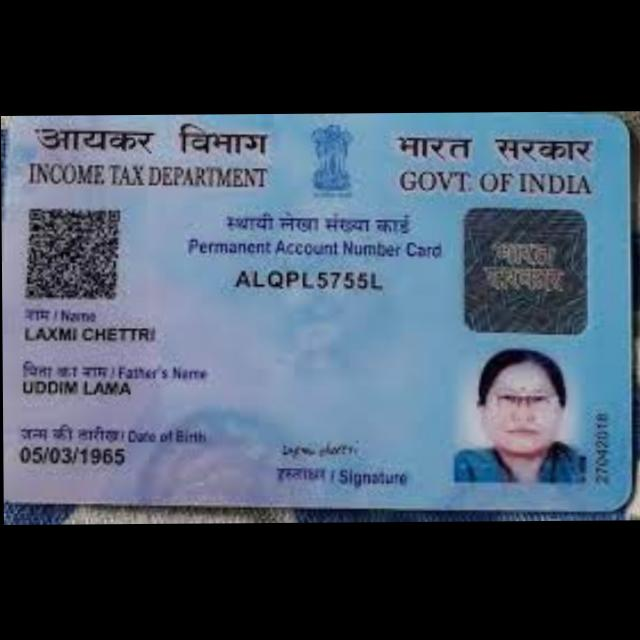pan: (1, 112, 639, 522)
